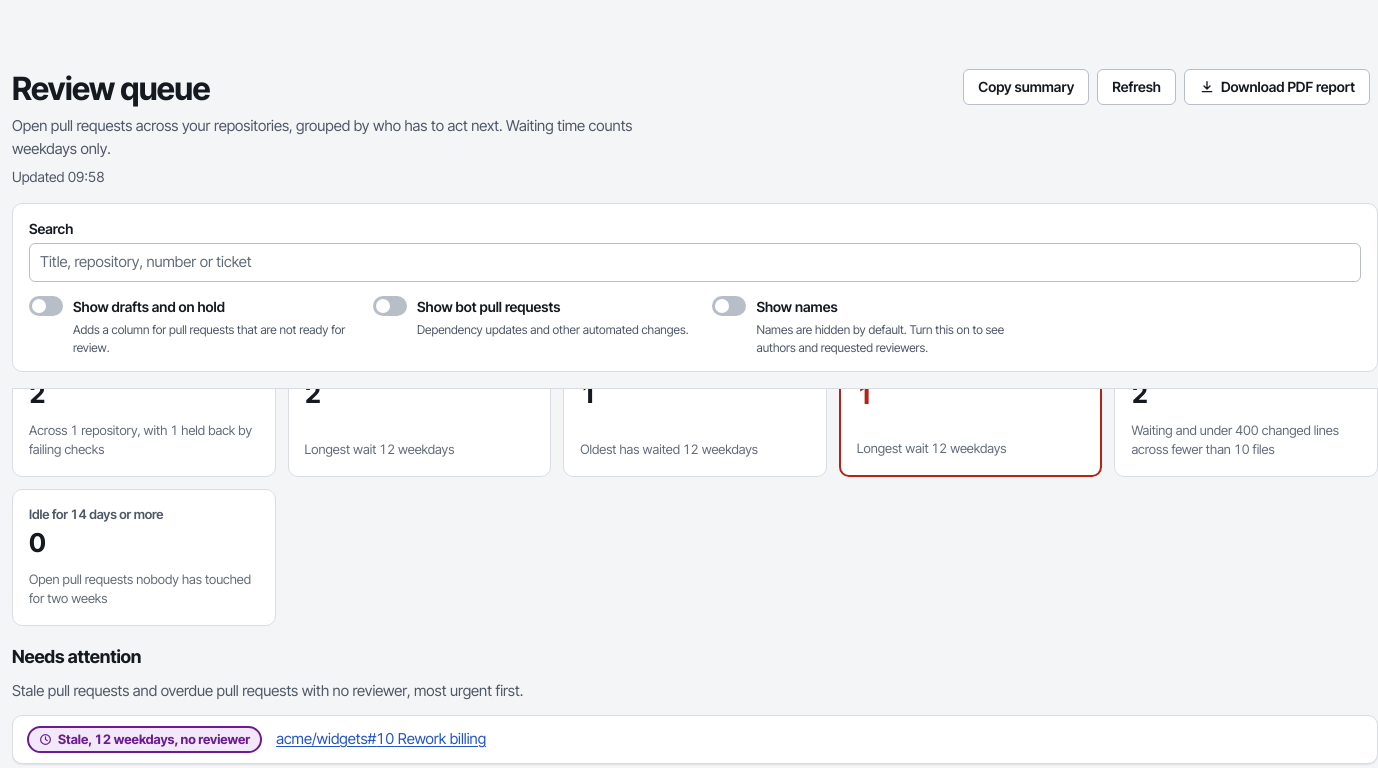
ReviewQueuePage › adds the held column and bot pull requests when their toggles are on
The image size is (1378, 768).
Expected: the heading "Waiting for review" is shown, [29,356,131,372]
Click the switch labelled "Show drafts and on hold".
click(189, 306)  # box [29,294,349,318]
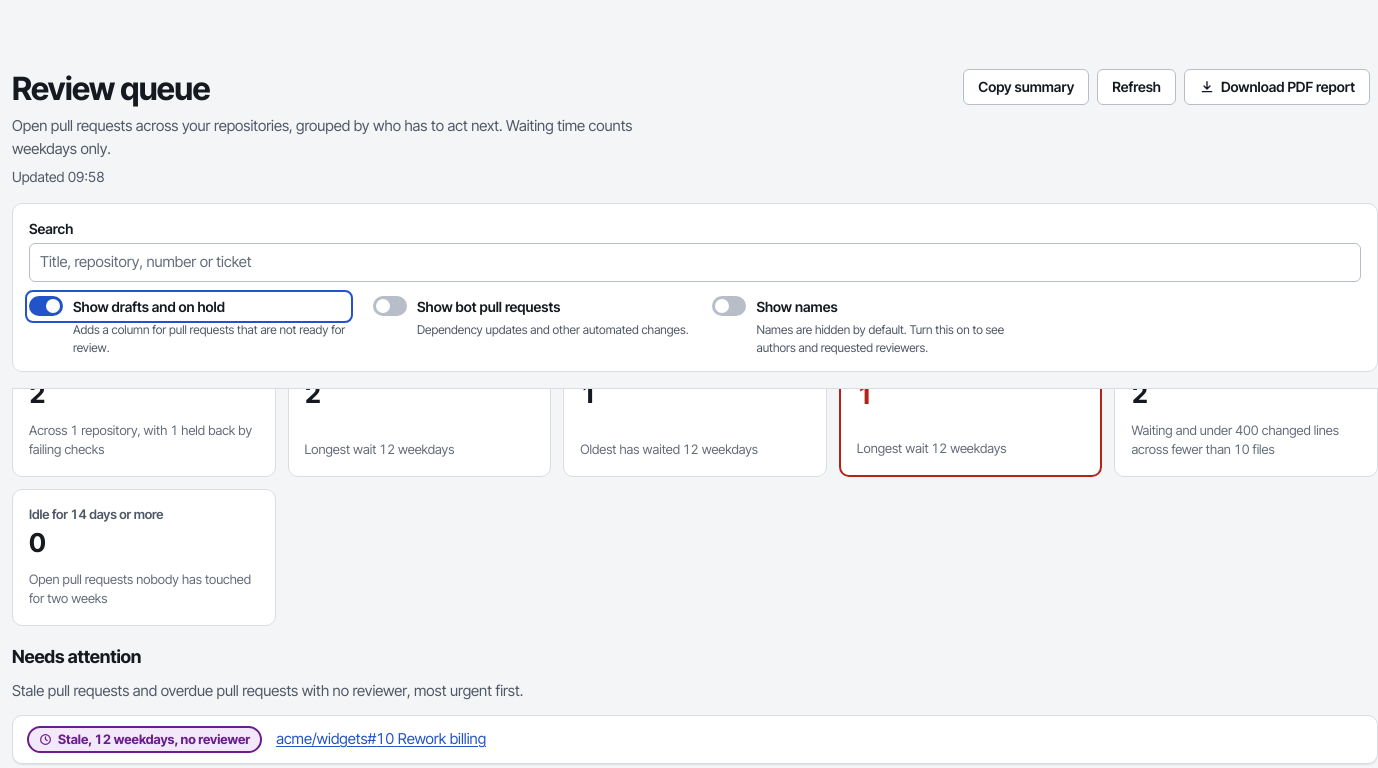
Click the switch labelled "Show bot pull requests".
click(531, 306)  # box [373,294,688,318]
(page scrolled)
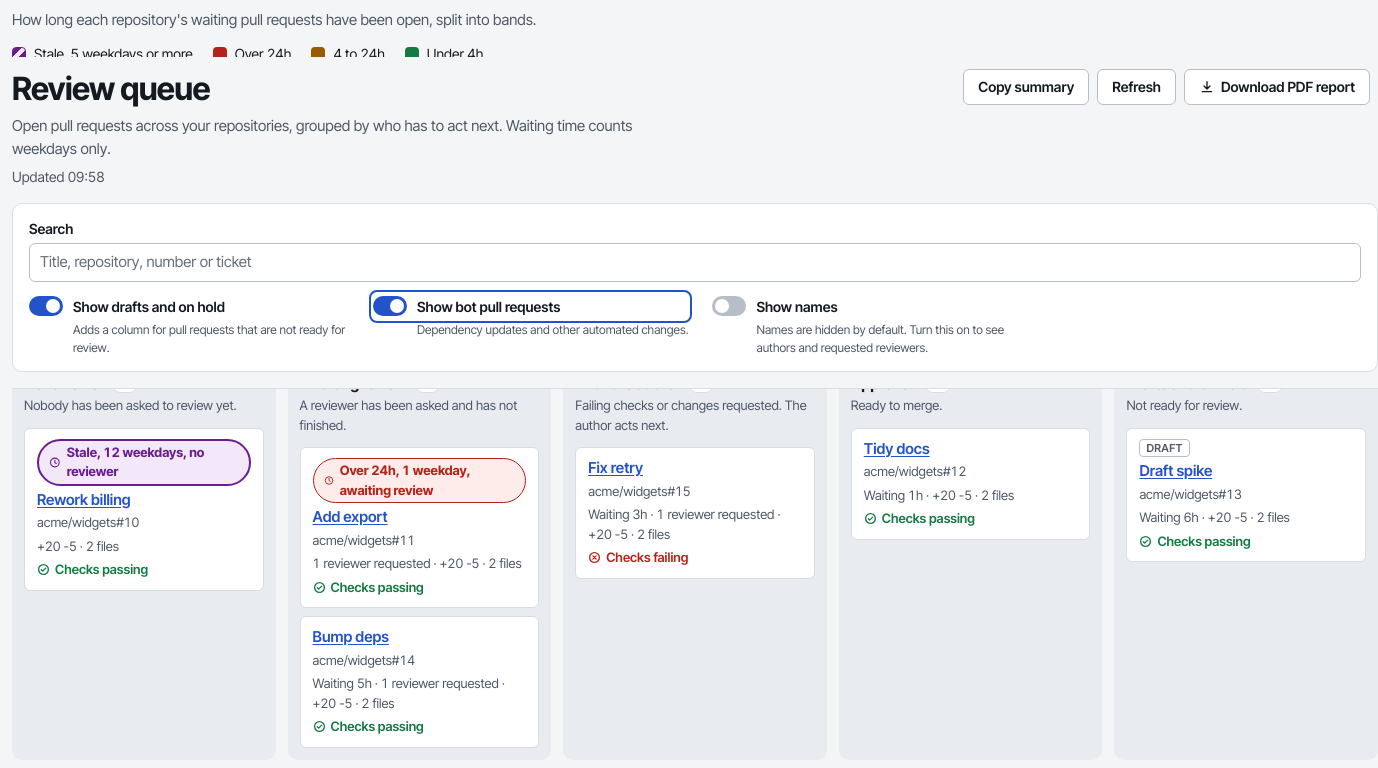
Result: the heading "Drafts and on hold 1" is shown at [1126,374,1283,393]
Result: the link "Draft spike" is shown at [1139,461,1212,480]
Result: the link "Bump deps" is shown at [313,627,389,646]
